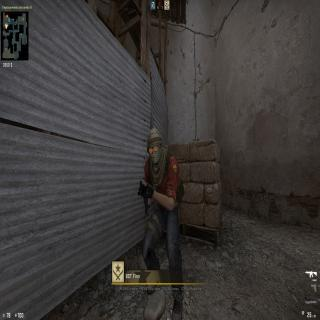T-Head: (146, 126, 164, 169)
